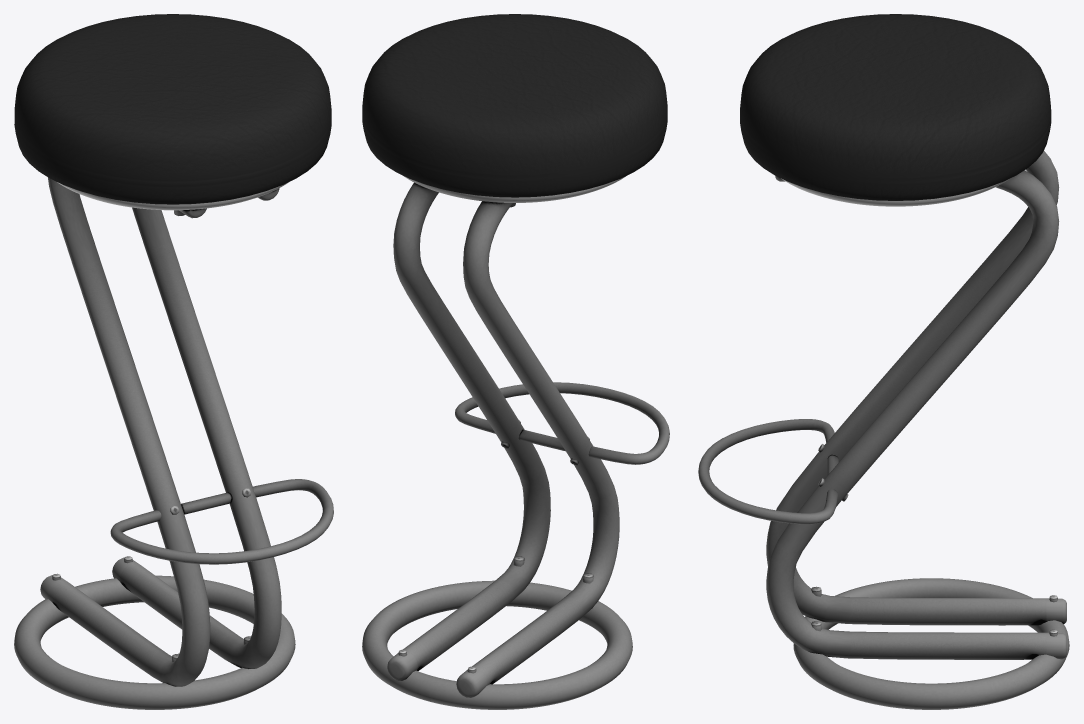
File: Bar_chair.obj
The picture shows the model from 3 angles, left to right: view 1: azimuth 30°, elevation 25°; view 2: azimuth 150°, elevation 25°; view 3: azimuth 270°, elevation 25°; orthographic projection. The views are drawn at different scales.
Visible parts, largest first — view 1: Barstool.001_Cube.003, Barstool_Cube.002; view 2: Barstool.001_Cube.003, Barstool_Cube.002; view 3: Barstool.001_Cube.003, Barstool_Cube.002.
Boxes of the visible parts, <box> form: Barstool.001_Cube.003: <box>14,177,333,709</box>; Barstool_Cube.002: <box>14,14,331,204</box>; Barstool.001_Cube.003: <box>362,176,669,709</box>; Barstool_Cube.002: <box>362,14,667,197</box>; Barstool.001_Cube.003: <box>698,151,1069,709</box>; Barstool_Cube.002: <box>740,14,1051,200</box>.
Size of the model in its own units: 1.58 by 3.31 by 1.89.
